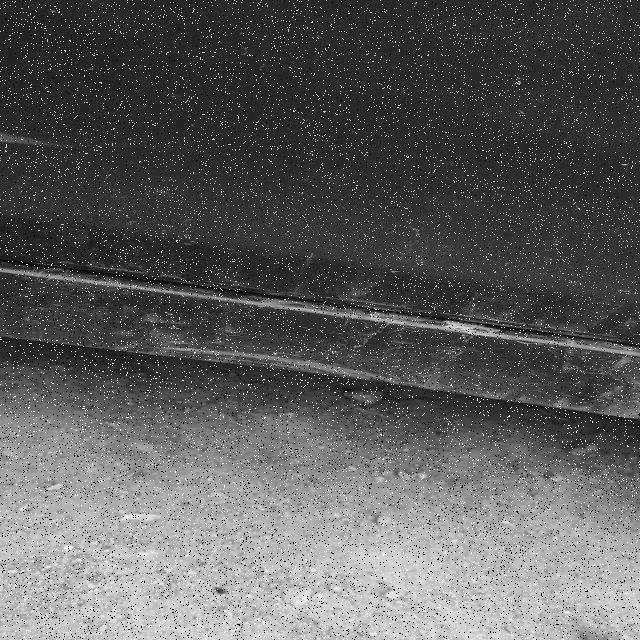Runningboard-Damage: (5, 265, 639, 430)
